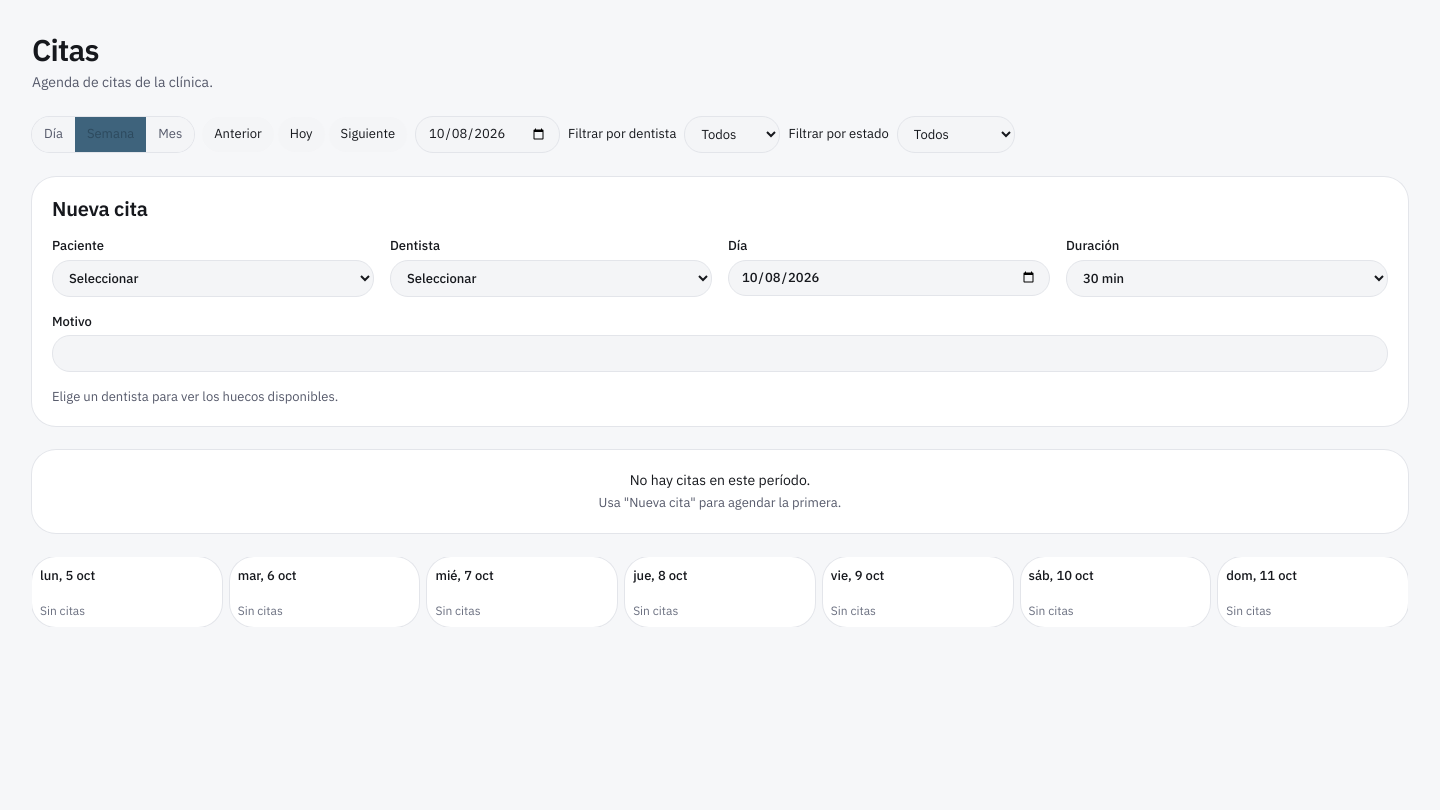
Test: Citas — navegación temporal › limita el mes de 2027-02-15 a sus 28 días y permite abrir el último día
Expected: the text "Cargando citas…" is not shown
Click the button "Mes": [170, 134] box [146,117,194,152]
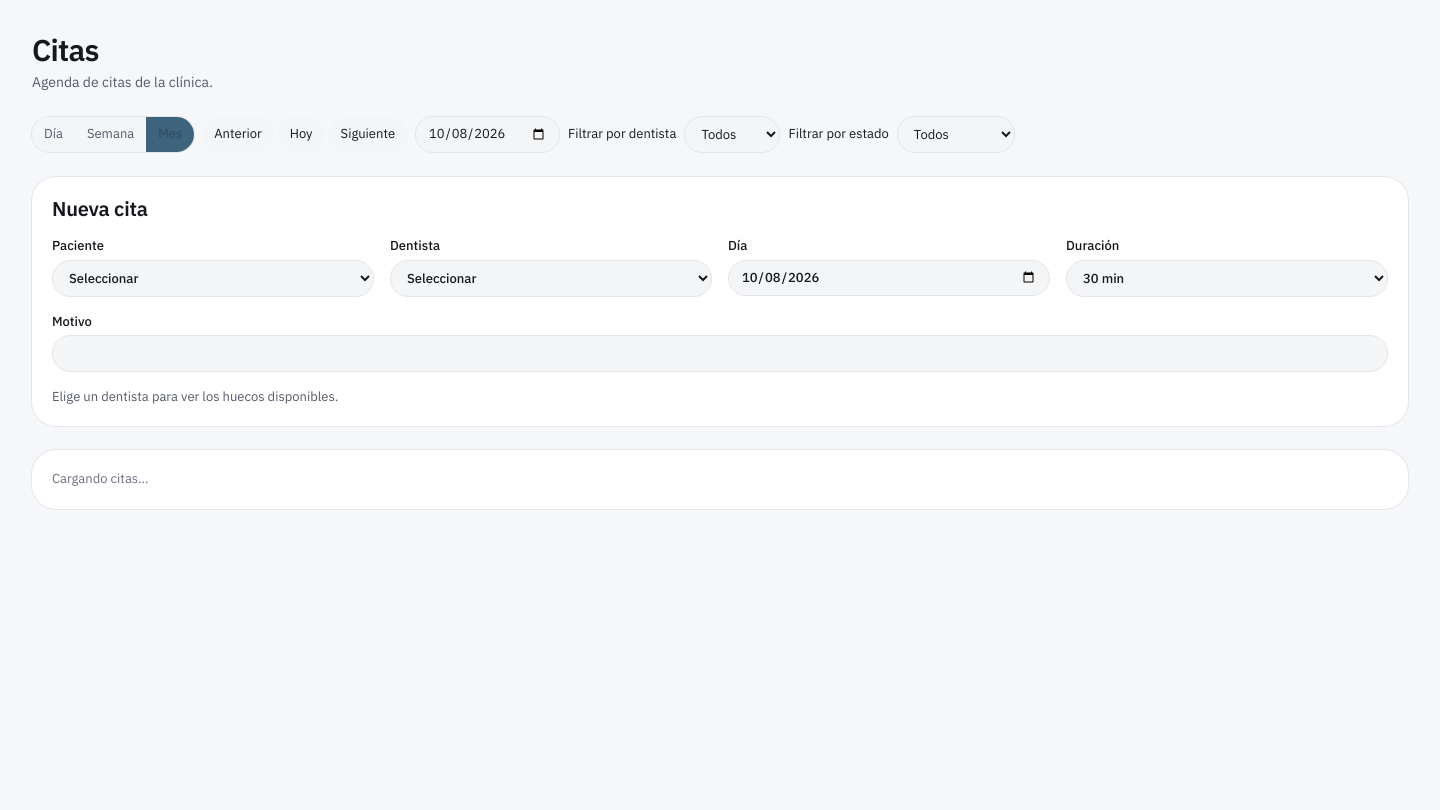
In the date field named "Fecha": [488, 134] box [415,116,560,153], type "2027-02-15"
(page scrolled)
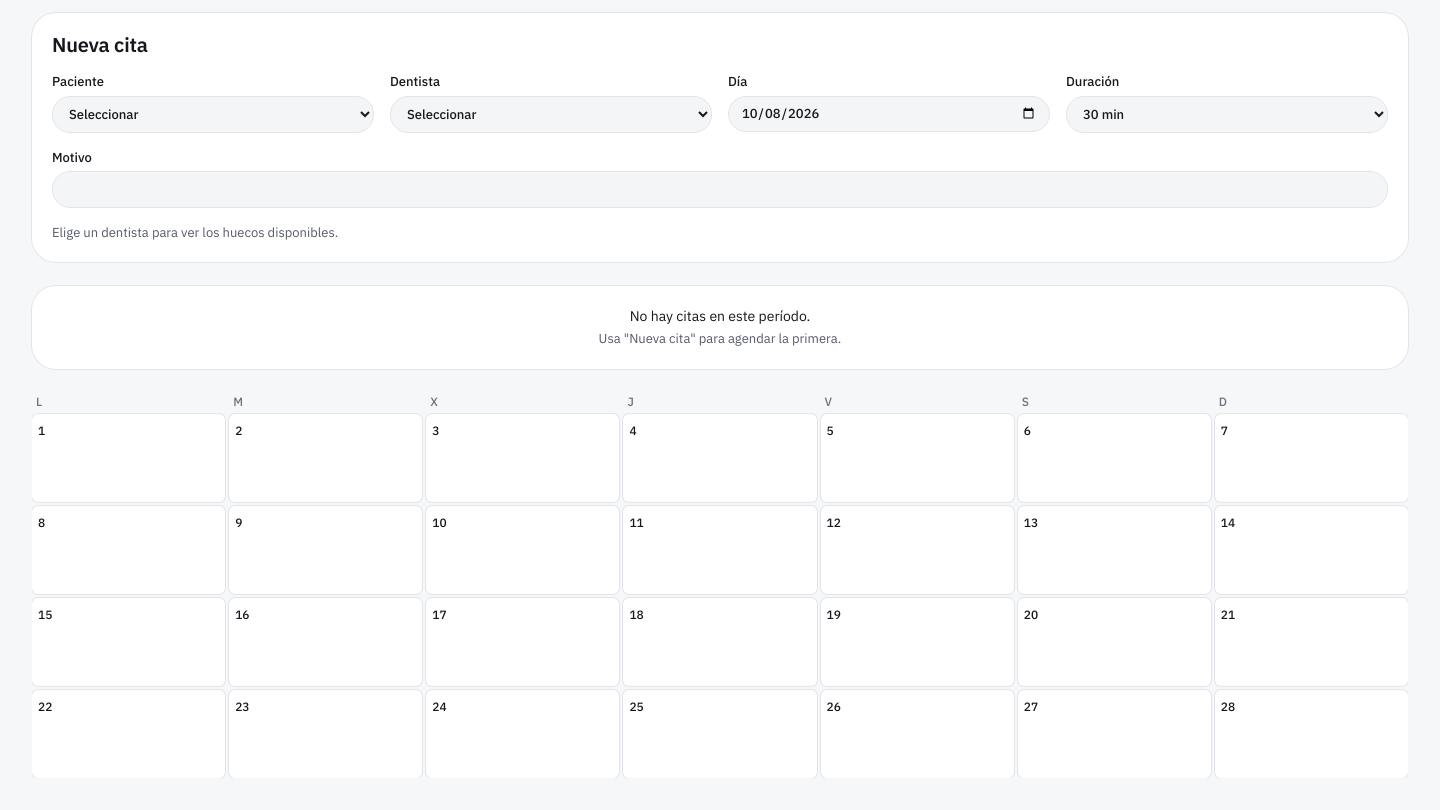
Expected: the text "Cargando citas…" is gone
Expected: the number of buttons named "Ver día" is 28
Click the button named "Ver día": [1228, 707] box [1221,698,1235,715]
(page scrolled)
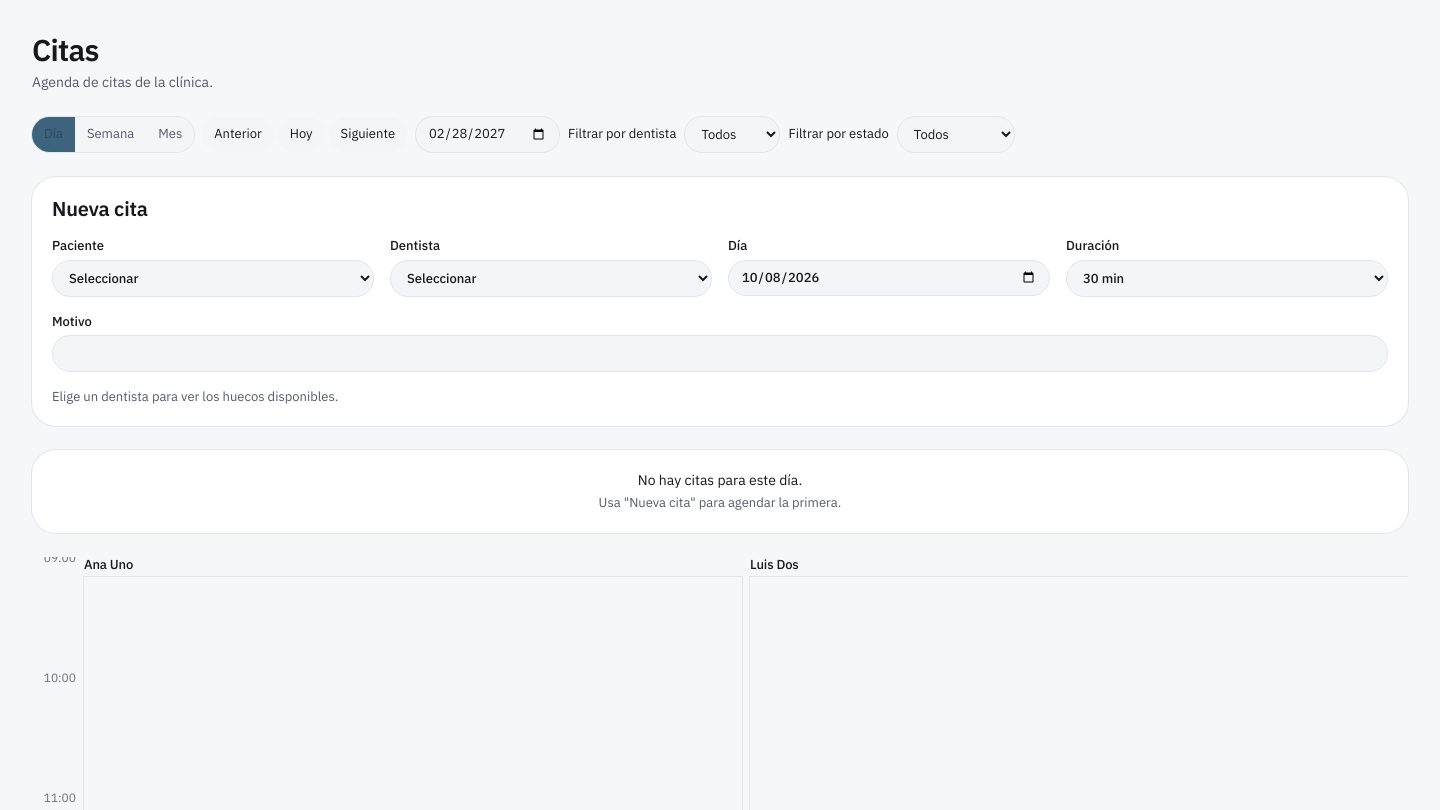
Expected: the text "Cargando citas…" is not shown
Expected: the date field named "Fecha" holds "2027-02-28", [415,116,560,153]
